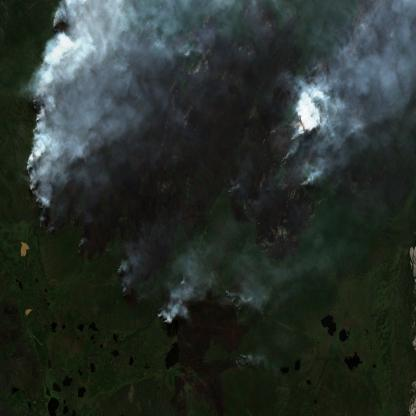fire: (17, 0, 416, 329)
